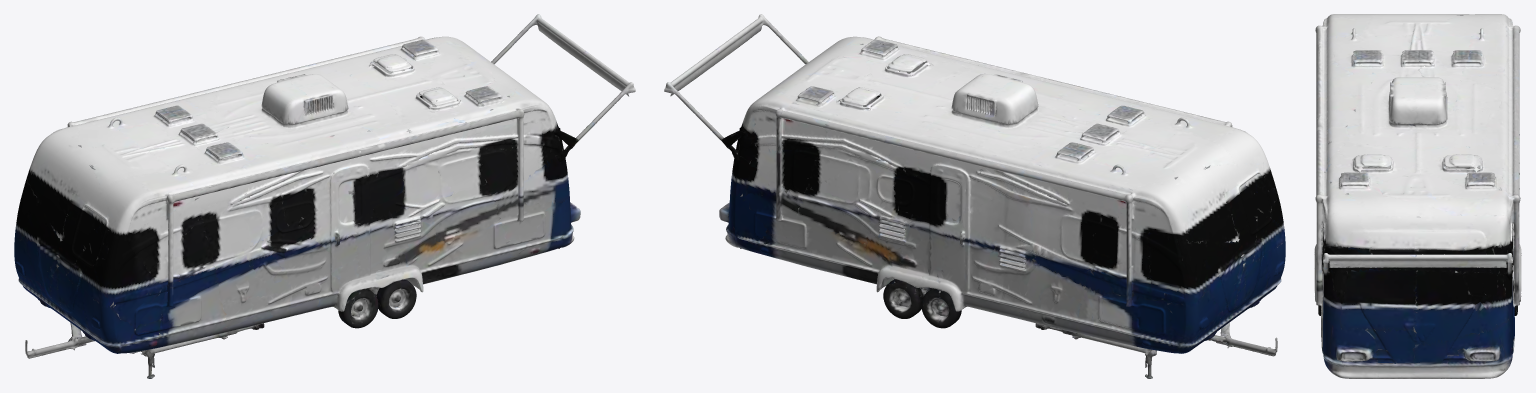
The model's file is Trailer.glb.
3 views of the same model, side by side, from view 1: azimuth 30°, elevation 25°; view 2: azimuth 150°, elevation 25°; view 3: azimuth 270°, elevation 25° (orthographic).
Size of the model in its own units: 1.9 by 0.6859 by 0.6099.
Materials: 1 (1 with a texture image).
